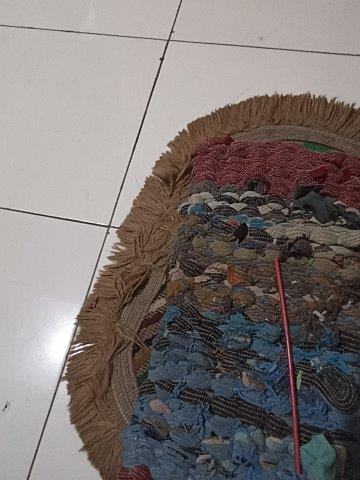sedotan: (274, 259, 301, 472)
